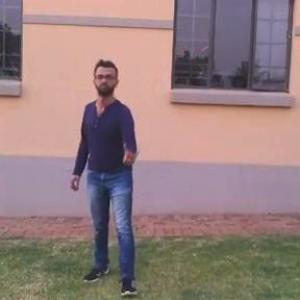takeoff-hand: (116, 136, 144, 174)
